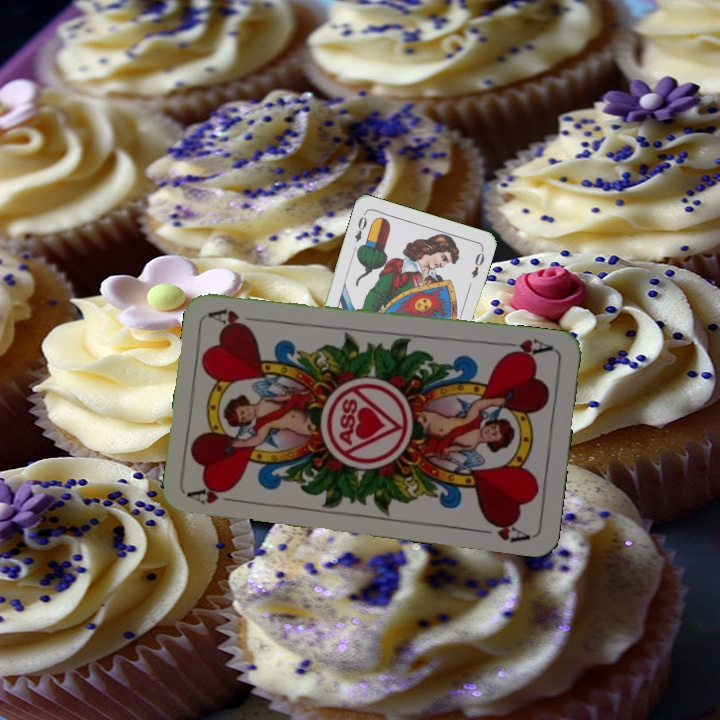EO: (350, 209, 369, 245)
HA: (186, 480, 245, 507), (497, 335, 556, 361)
